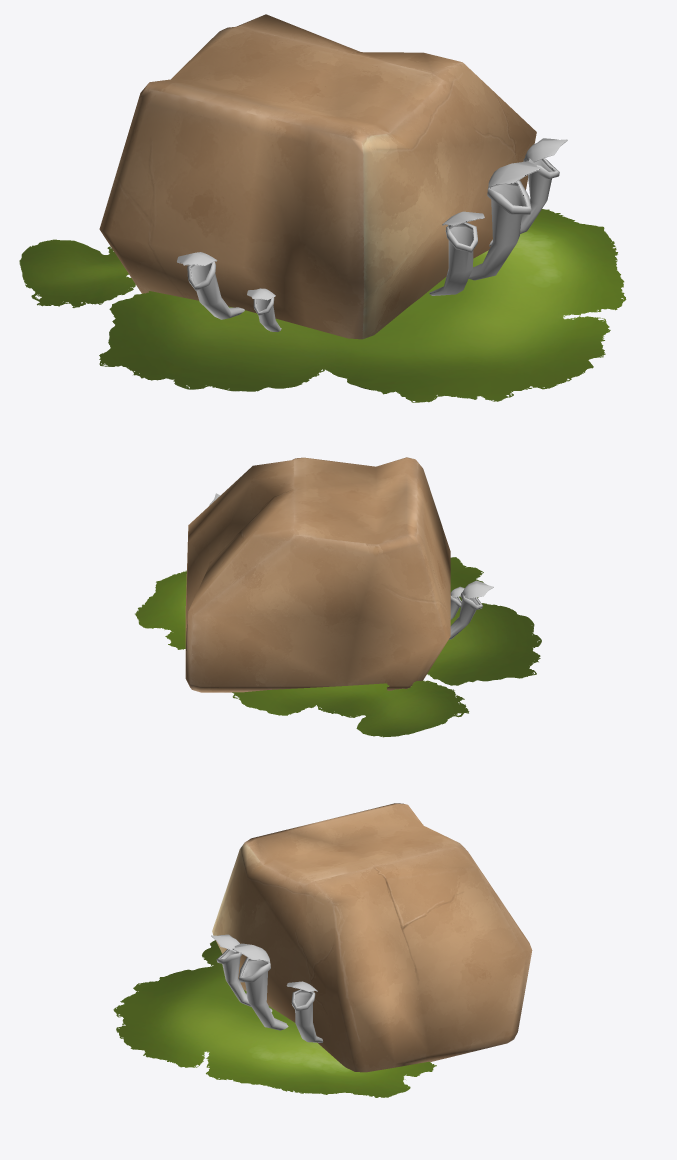
Rendered from Vegetation_Group_5.fbx.
The picture shows the model from 3 angles, top to bottom: view 1: azimuth 30°, elevation 25°; view 2: azimuth 150°, elevation 25°; view 3: azimuth 270°, elevation 25°; orthographic projection. The views are drawn at different scales.
Parts seen in each view (by area): view 1: MS_Remains, Moss_Plane, Sarracenia1, Sarracenia2, Sarracenia3, Sarracenia4, Sarracenia5; view 2: MS_Remains, Moss_Plane, Sarracenia4; view 3: MS_Remains, Moss_Plane, Sarracenia1, Sarracenia3, Sarracenia2.
Part boxes in pixels (box(x1,y1,x2,y2)): MS_Remains: box(99, 14, 536, 339); Moss_Plane: box(19, 209, 626, 402); Sarracenia1: box(468, 161, 540, 280); Sarracenia2: box(429, 211, 484, 295); Sarracenia3: box(489, 138, 567, 246); Sarracenia4: box(177, 252, 244, 319); Sarracenia5: box(247, 288, 281, 331); MS_Remains: box(185, 457, 450, 692); Moss_Plane: box(135, 557, 541, 737); Sarracenia4: box(449, 580, 493, 639); MS_Remains: box(212, 803, 532, 1072); Moss_Plane: box(113, 940, 436, 1097); Sarracenia1: box(232, 943, 288, 1030); Sarracenia3: box(286, 981, 322, 1042); Sarracenia2: box(211, 934, 272, 1011).
Bounding box in the file's own units: 18.11 × 5.05 × 18.11.
